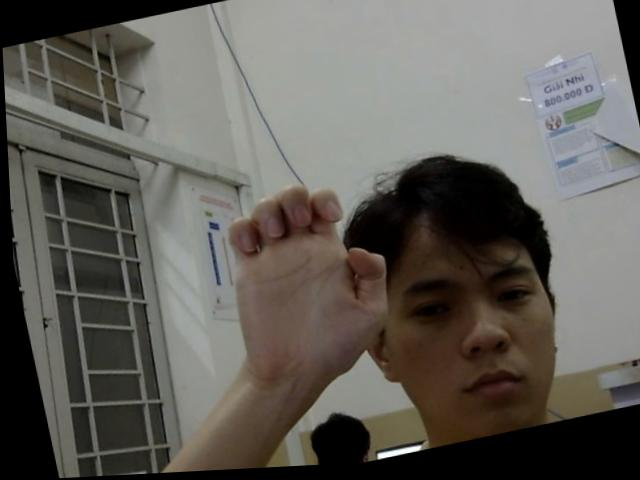E: (209, 170, 400, 384)
